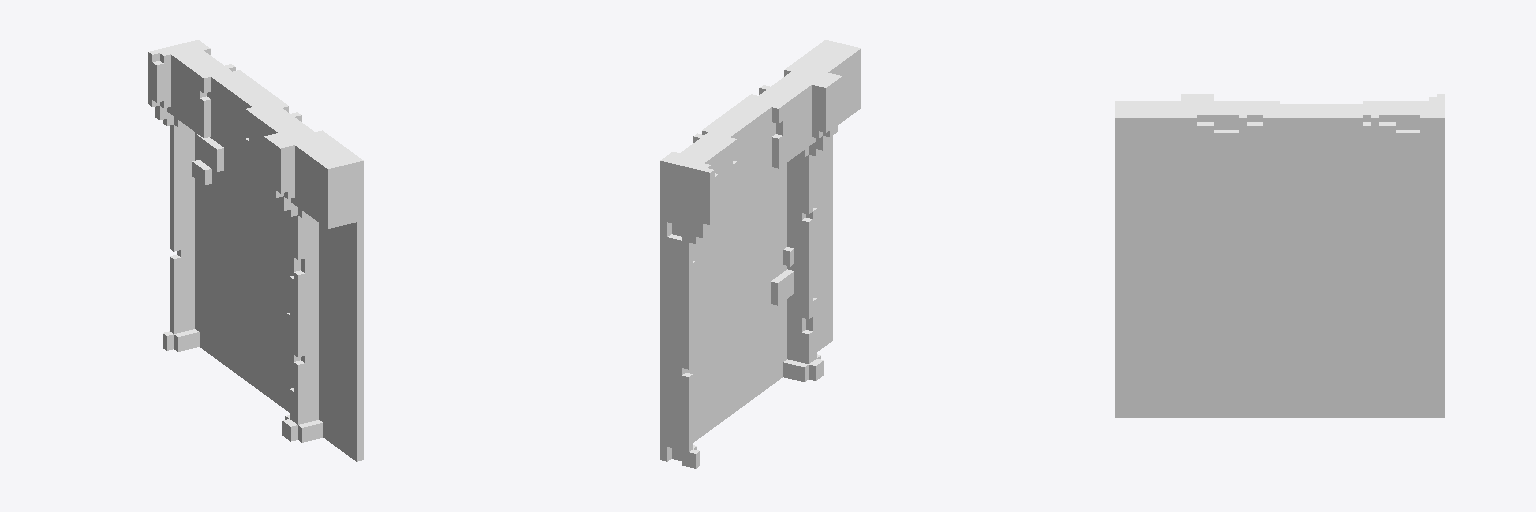
File: desert_dungeon_wall.obj
3 renders of one model, left to right at view 1: azimuth 30°, elevation 25°; view 2: azimuth 150°, elevation 25°; view 3: azimuth 270°, elevation 25°, orthographic.
Visible parts, largest first — view 1: object 1; view 2: object 1; view 3: object 1.
Boxes of the visible parts, x1=… form: object 1: x1=148, y1=40, x2=363, y2=461; object 1: x1=660, y1=40, x2=860, y2=468; object 1: x1=1115, y1=94, x2=1444, y2=417.
Bounding box in the file's own units: 0.7 × 4 × 4.